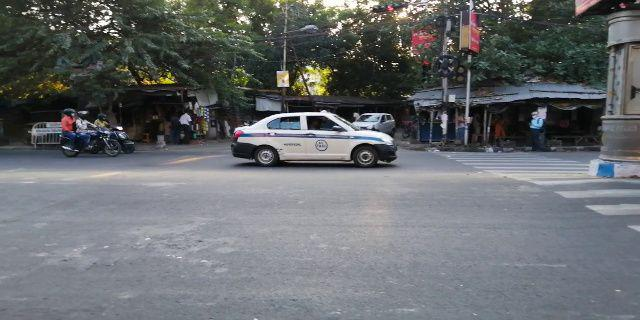Car: (229, 101, 402, 176)
Motorbike: (53, 105, 127, 160)
